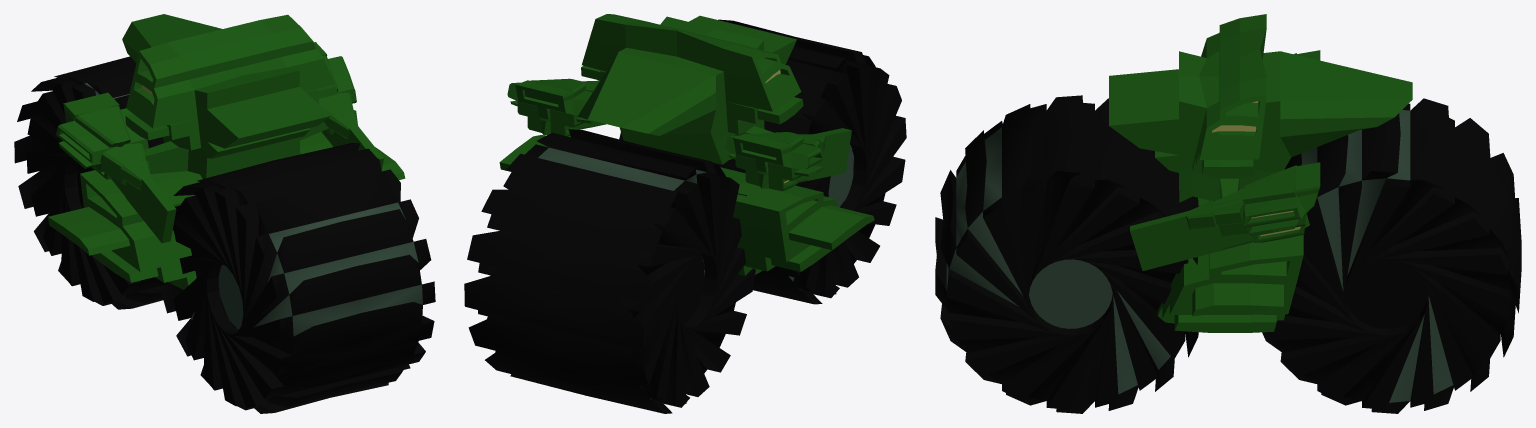
Rendered from Motocycle small.fbx.
The picture shows the model from 3 angles, left to right: view 1: azimuth 30°, elevation 25°; view 2: azimuth 150°, elevation 25°; view 3: azimuth 270°, elevation 25°; orthographic projection. The views are drawn at different scales.
Parts seen in each view (by area): view 1: Wheel1, Cube.001, Wheel2, Cube, Corpus1.001, Corpus1; view 2: Wheel2, Cube.001, Wheel1, Cube, Corpus1.001, Corpus1; view 3: Wheel1, Wheel2, Cube.001, Cube, Corpus1.
Part boxes in pixels (left/top/right/bottom): Wheel1: left=161, top=143, right=435, bottom=413; Cube.001: left=122, top=14, right=337, bottom=178; Wheel2: left=14, top=56, right=170, bottom=309; Cube: left=48, top=132, right=405, bottom=289; Corpus1.001: left=56, top=92, right=176, bottom=243; Corpus1: left=314, top=42, right=383, bottom=170; Wheel2: left=464, top=129, right=755, bottom=413; Cube.001: left=577, top=14, right=803, bottom=164; Wheel1: left=619, top=19, right=906, bottom=304; Cube: left=499, top=135, right=874, bottom=275; Corpus1.001: left=725, top=128, right=851, bottom=191; Corpus1: left=507, top=78, right=606, bottom=136; Wheel1: left=935, top=95, right=1198, bottom=413; Wheel2: left=1262, top=98, right=1521, bottom=413; Cube.001: left=1109, top=14, right=1412, bottom=202; Cube: left=1157, top=198, right=1303, bottom=332; Corpus1: left=1130, top=162, right=1320, bottom=270.
Size of the model in its own units: 325 by 292 by 473.
